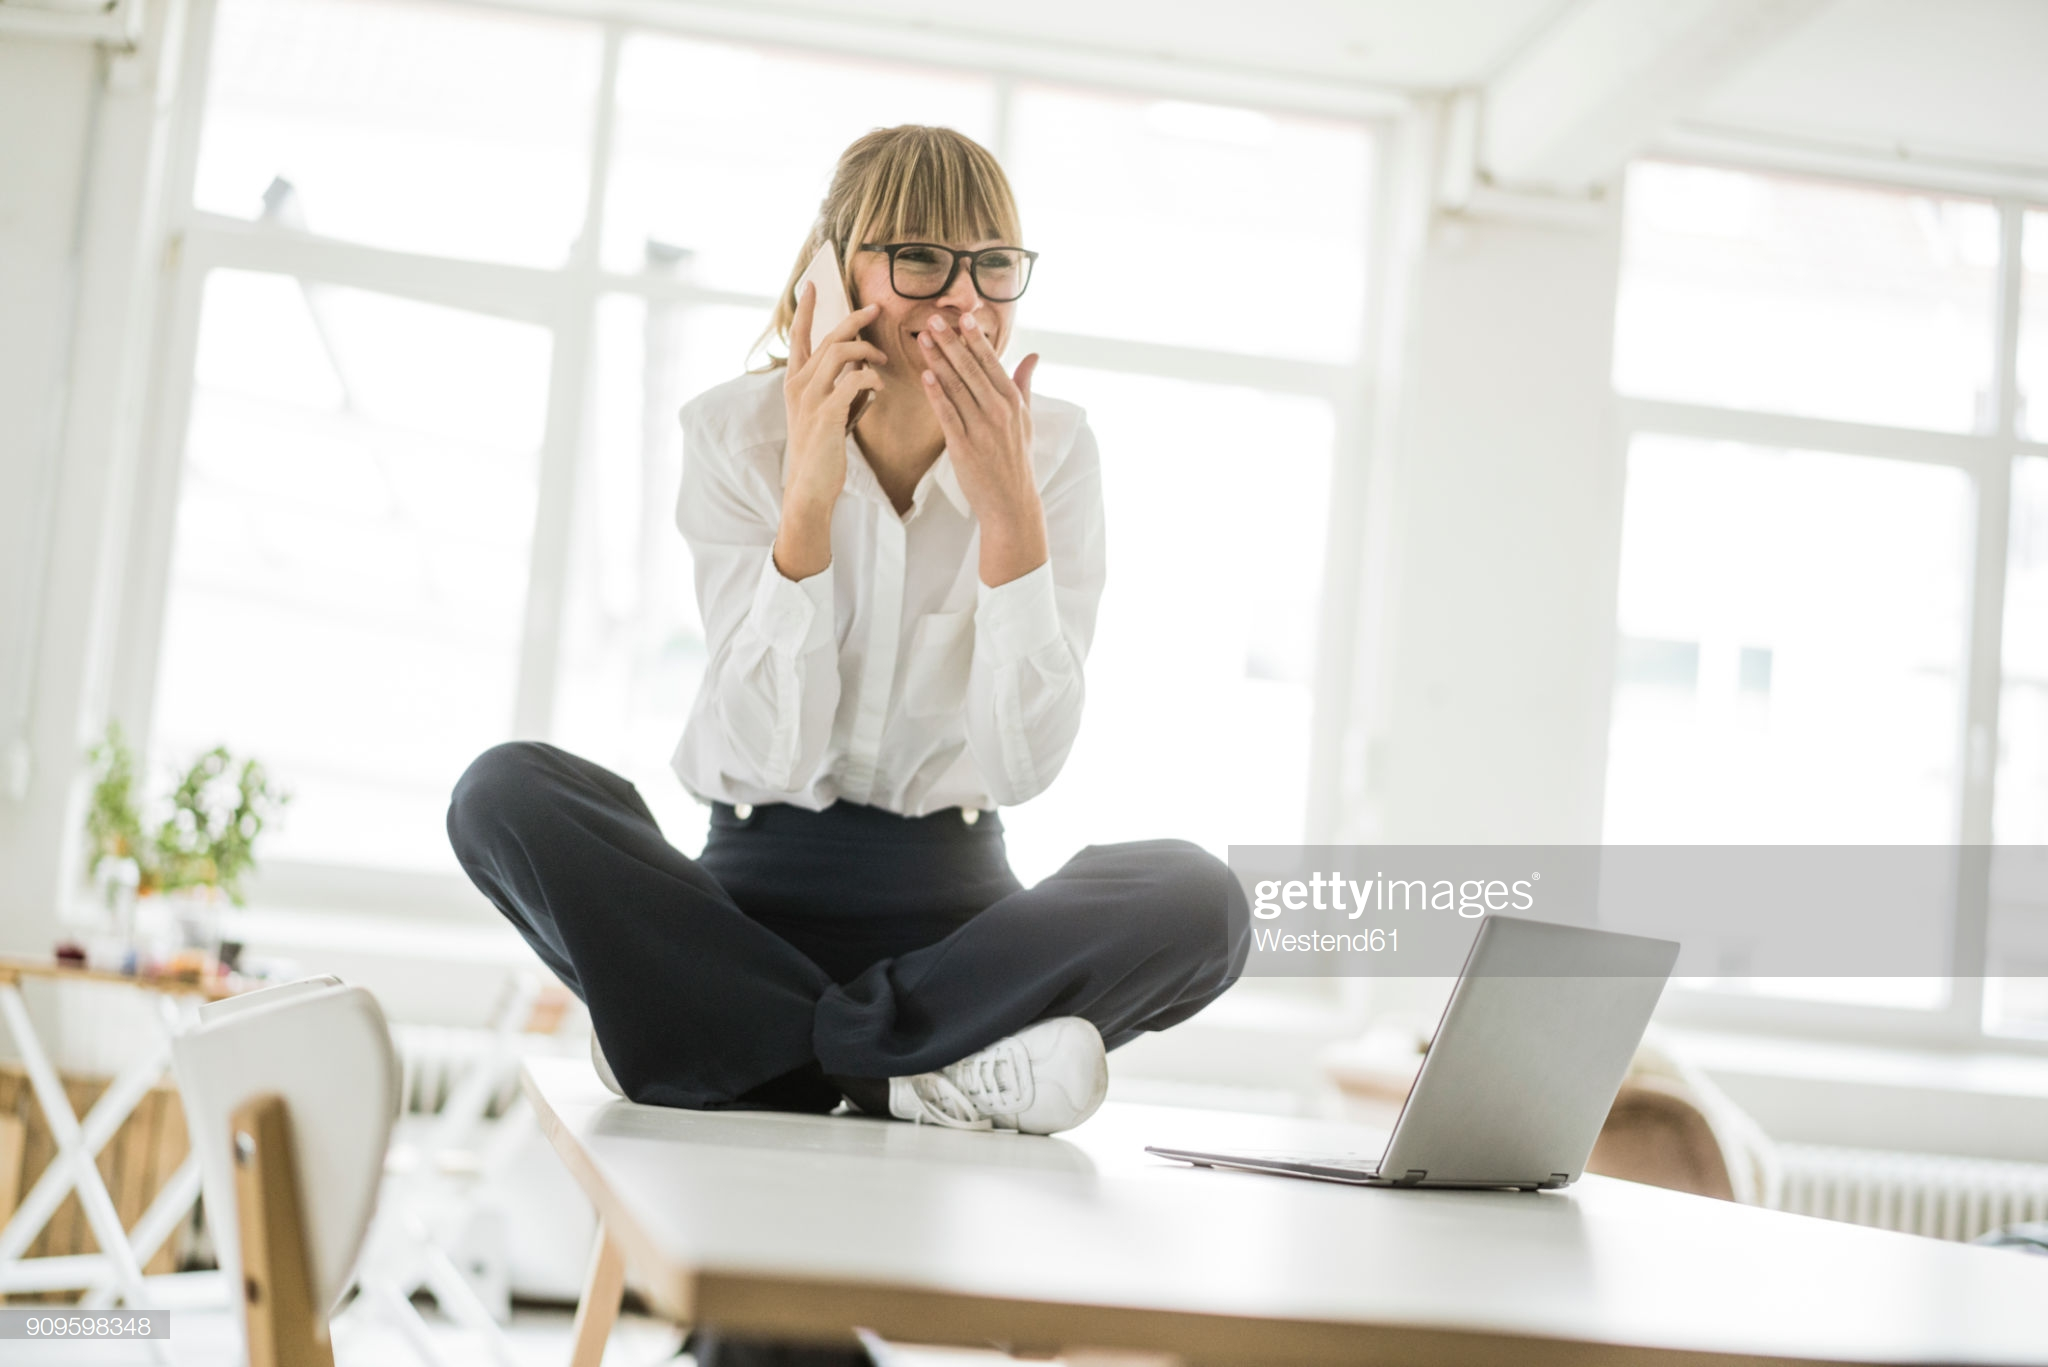phone: (782, 249, 900, 417)
talk: (766, 217, 1014, 479)
